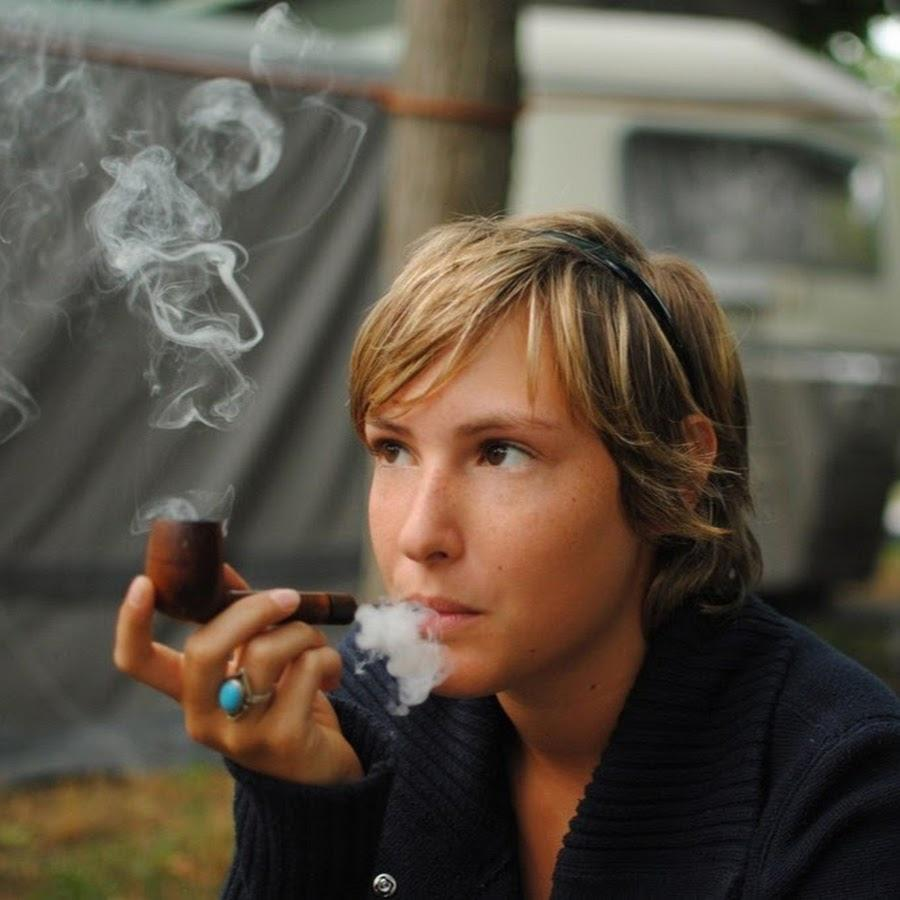trubka: (143, 517, 358, 625)
